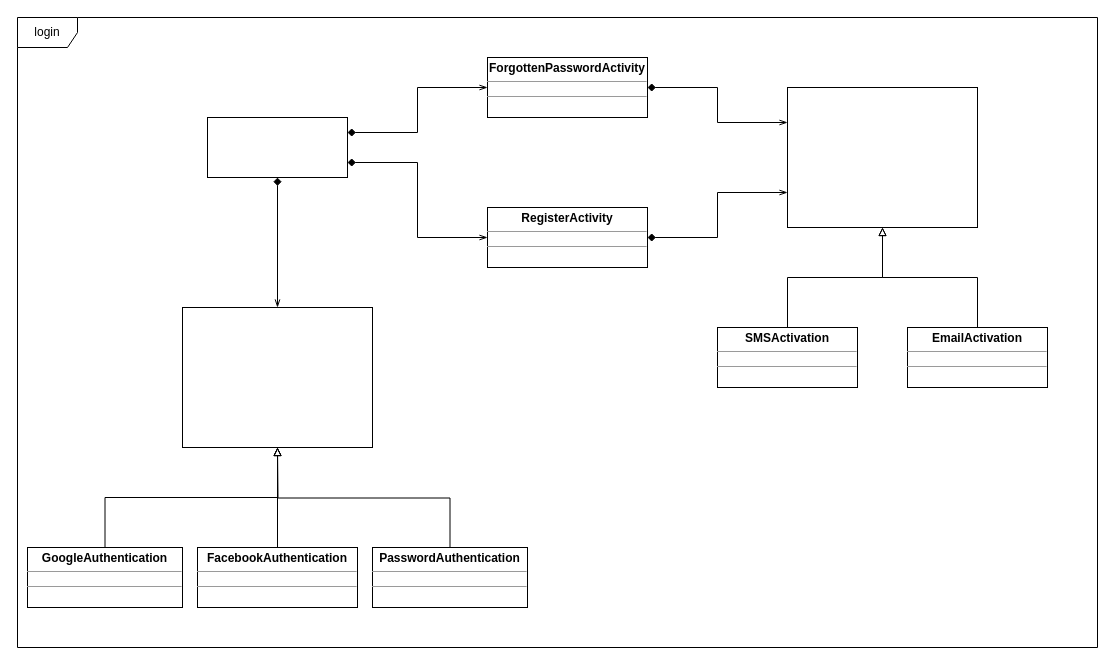
Image size: 1115x665. Some labels were removed from this diagram. The centre of each missing label's shape, as x and y in pixels:
<<Interface>> Activation: point (882, 157)
<<Interface>> Authentication: point (277, 377)
LoginActivity: point (277, 147)
